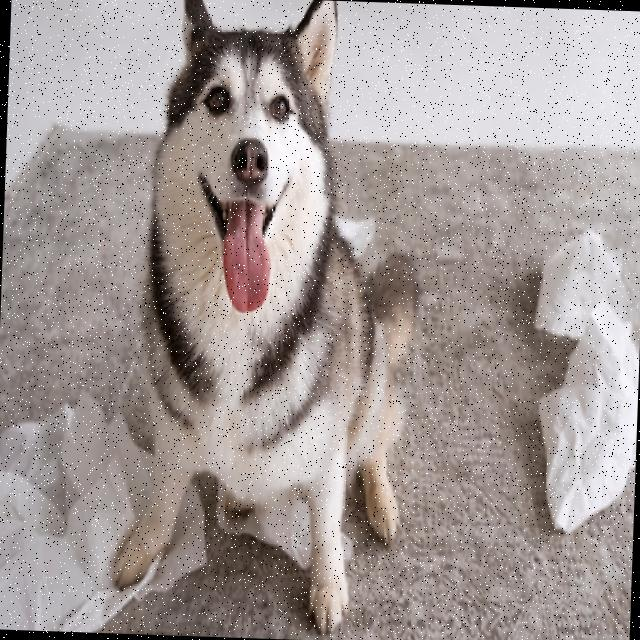Dog: (110, 0, 426, 640)
